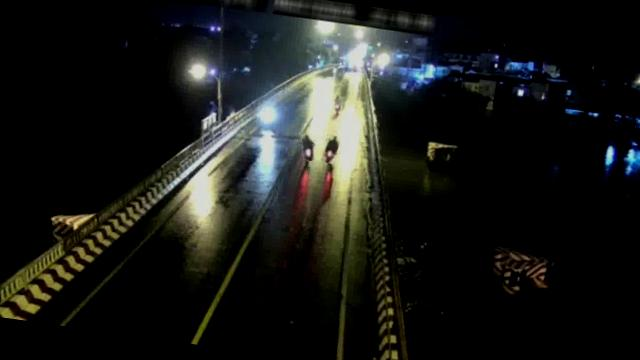Bike: (320, 133, 340, 164), (298, 133, 316, 163), (329, 95, 344, 116)
